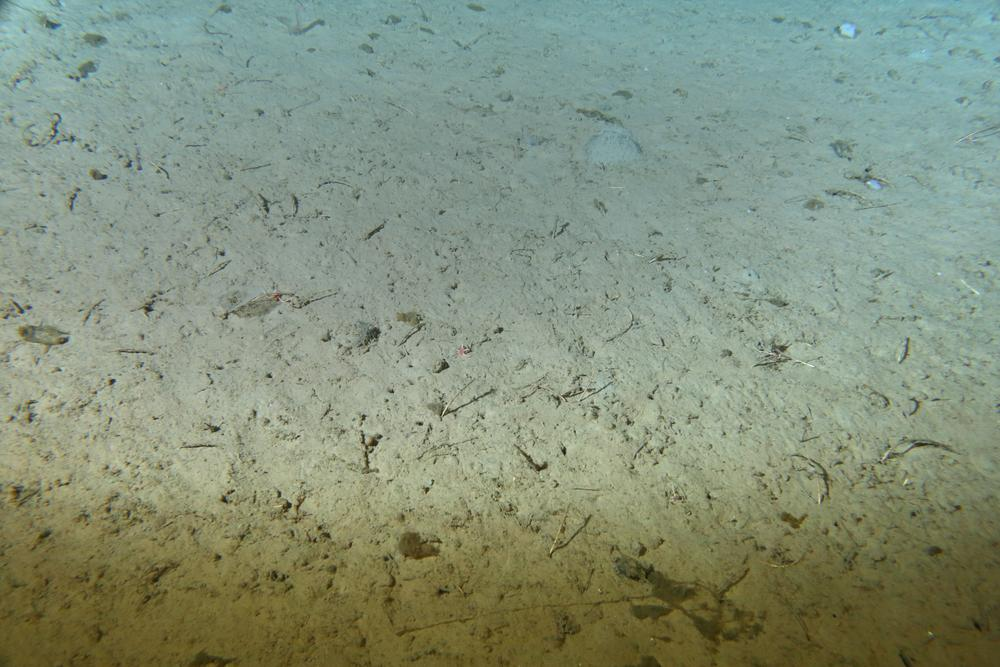Peniagone vitrea: (286, 2, 312, 38)
